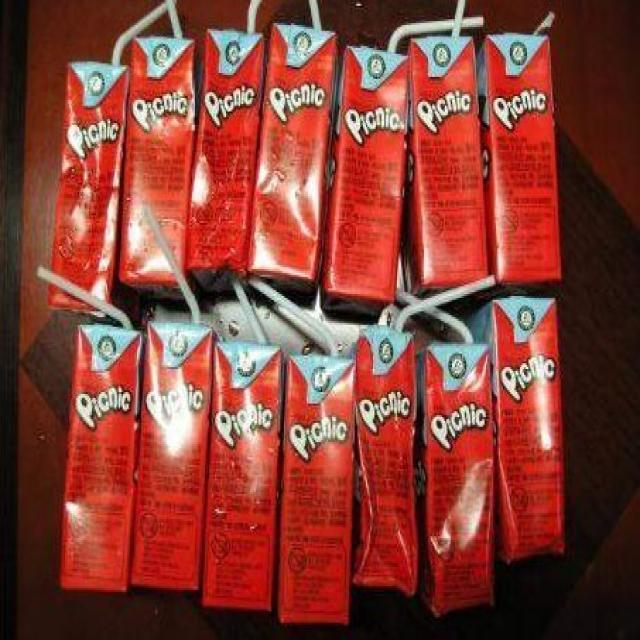Tetra: (477, 32, 563, 288), (407, 36, 485, 295), (212, 340, 282, 610), (336, 44, 403, 325), (490, 294, 565, 544), (262, 21, 332, 280), (427, 342, 495, 600), (145, 320, 210, 586), (70, 324, 136, 584), (356, 310, 416, 588), (292, 352, 350, 630), (128, 32, 194, 276), (64, 51, 124, 297), (200, 26, 256, 270)
